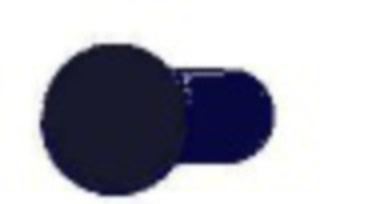Switch: (1, 1, 371, 203)
